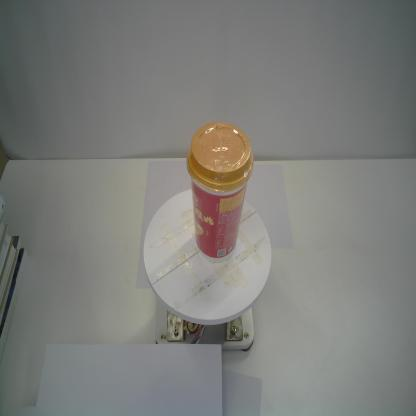Instant Drink: (185, 121, 255, 263)
